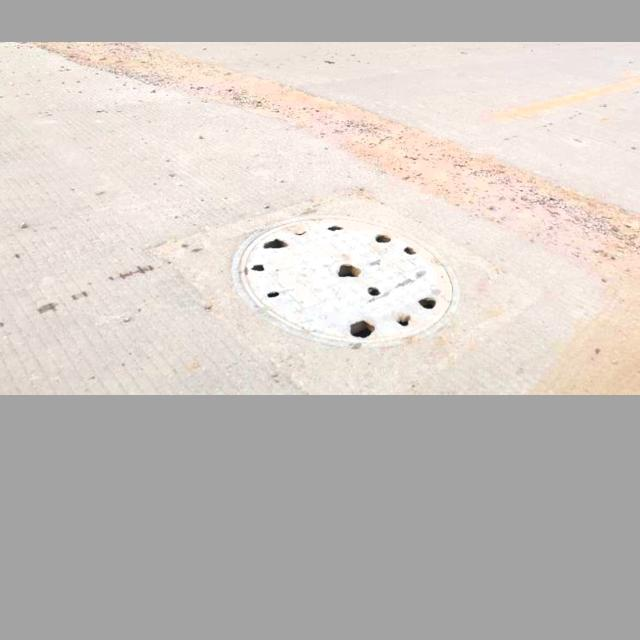broke: (234, 215, 460, 343)
